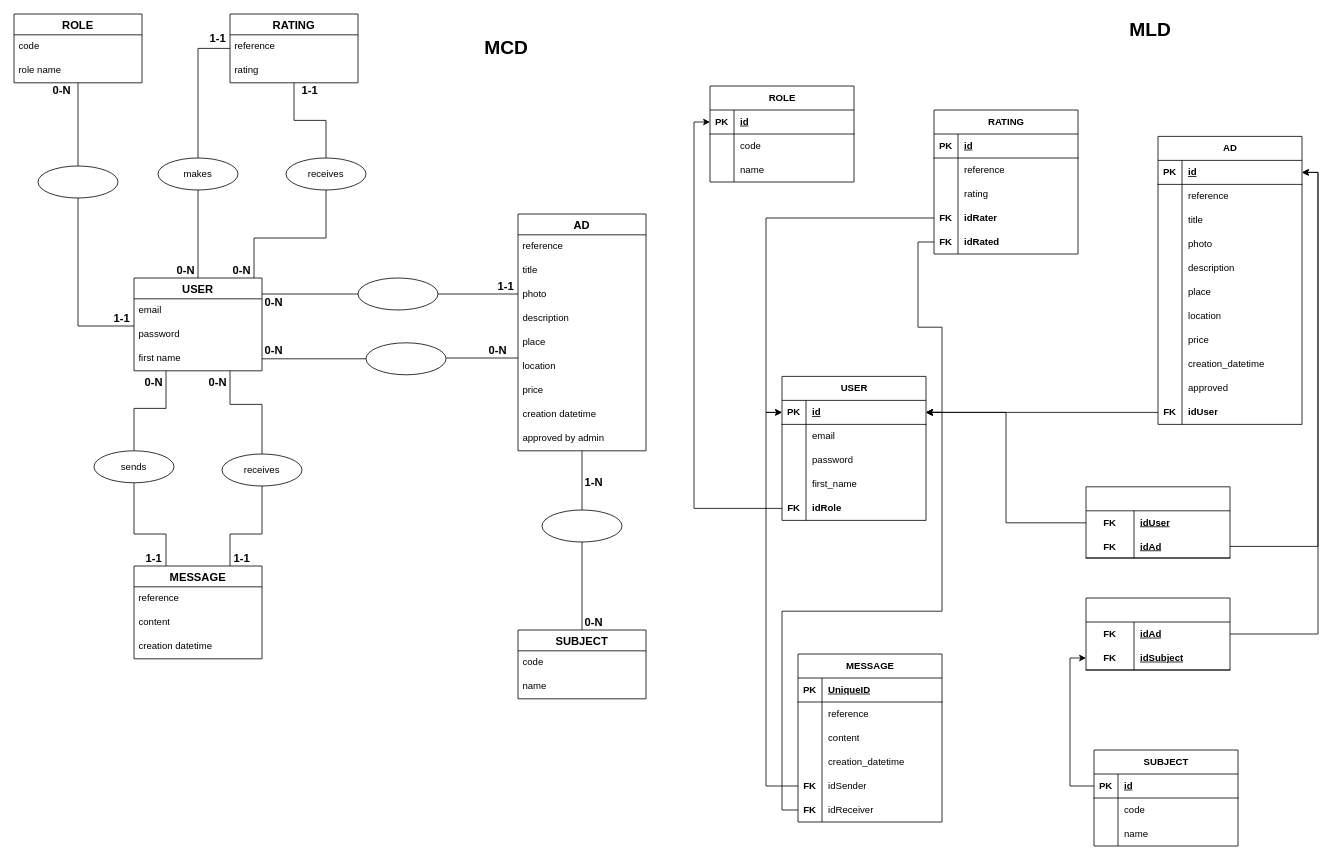
The diagram is 1338 pixels wide and 860 high, and some of its shapes have lost their labels. Here are the shapes that lost their labels. From the top down, the box of each, then its label:
(37, 165, 118, 198): has
(357, 277, 438, 310): posts
(365, 342, 446, 375): puts as favorite
(541, 509, 622, 542): offers
(1085, 486, 1230, 558): FAVORITE_USER_ADS
(1085, 597, 1230, 670): AD_SUBJECTS
